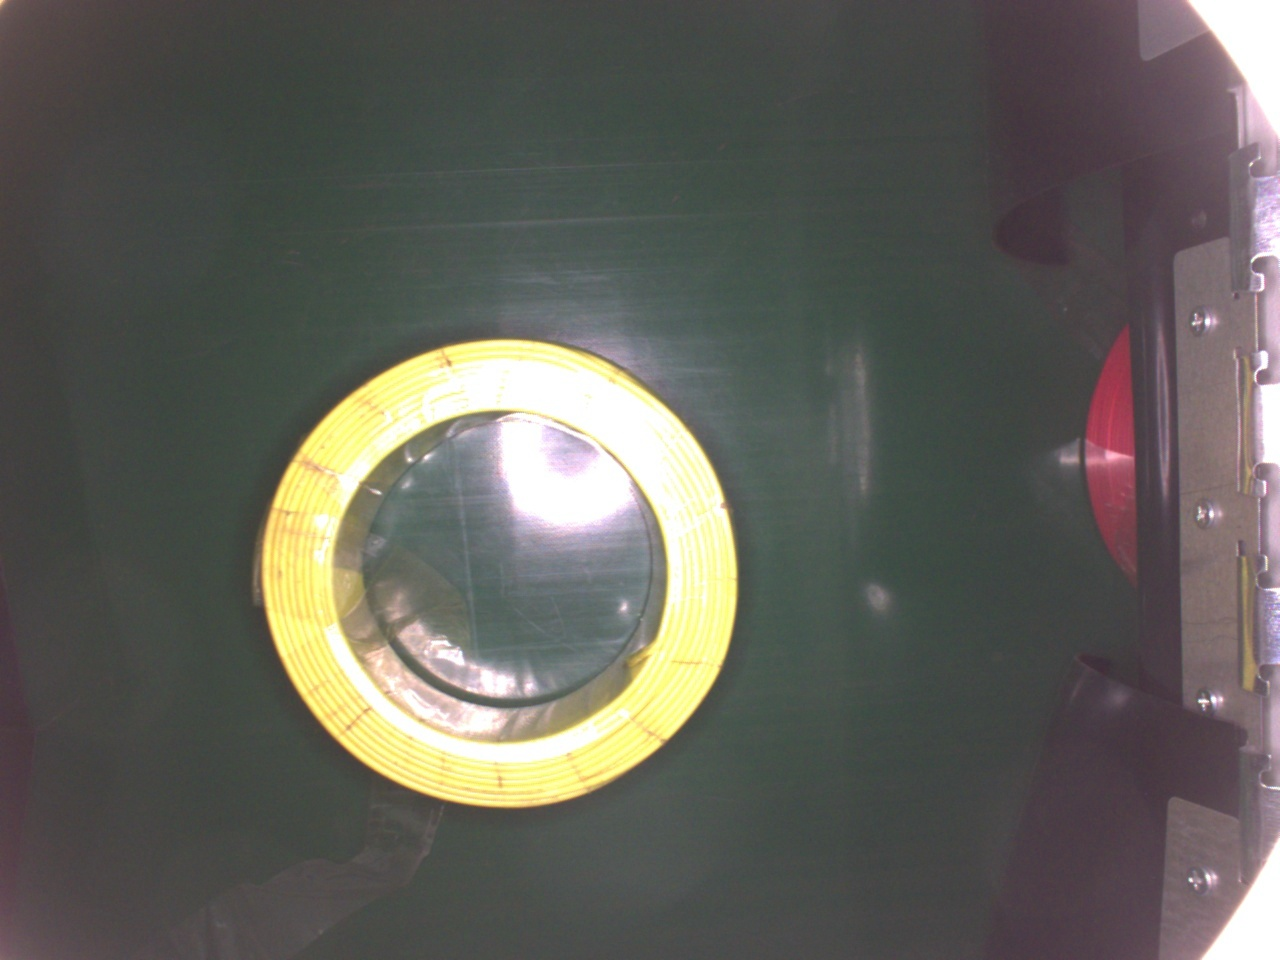yellow: (253, 332, 735, 806)
